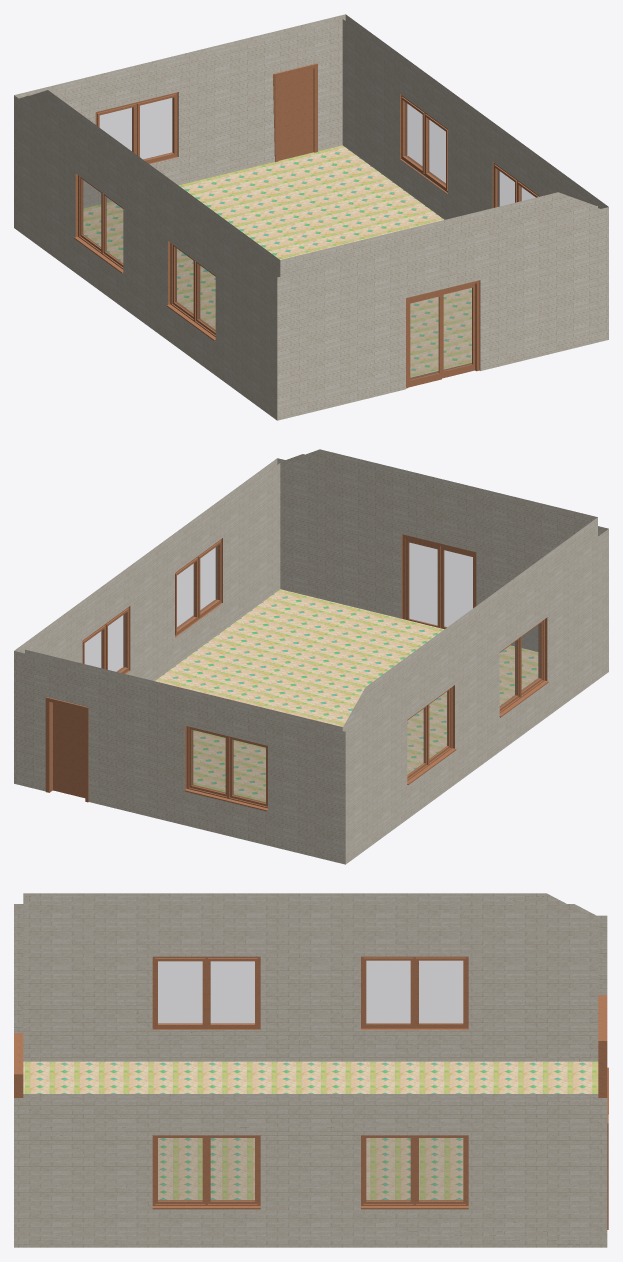
The model's file is telhado43a.glb.
3 renders of one model, top to bottom at view 1: azimuth 30°, elevation 25°; view 2: azimuth 150°, elevation 25°; view 3: azimuth 270°, elevation 25°, orthographic. The views are drawn at different scales.
Visible parts, largest first — view 1: object 3, root, object 2, object 4; view 2: object 3, root, object 2, object 4; view 3: object 3, root, object 2, object 4.
Part boxes in pixels (x1,y1,x2,y2): object 3: (14, 14, 608, 420); root: (83, 145, 471, 377); object 2: (82, 98, 535, 379); object 4: (74, 63, 539, 388); object 3: (14, 449, 608, 864); root: (155, 589, 538, 801); object 2: (85, 542, 540, 803); object 4: (45, 534, 548, 811); object 3: (14, 893, 607, 1247); root: (23, 1061, 598, 1199); object 2: (158, 961, 462, 1200); object 4: (14, 956, 608, 1229).
Bounding box in the file's own units: 8.06 × 3.6 × 11.03.
6 materials, 3 textured.
